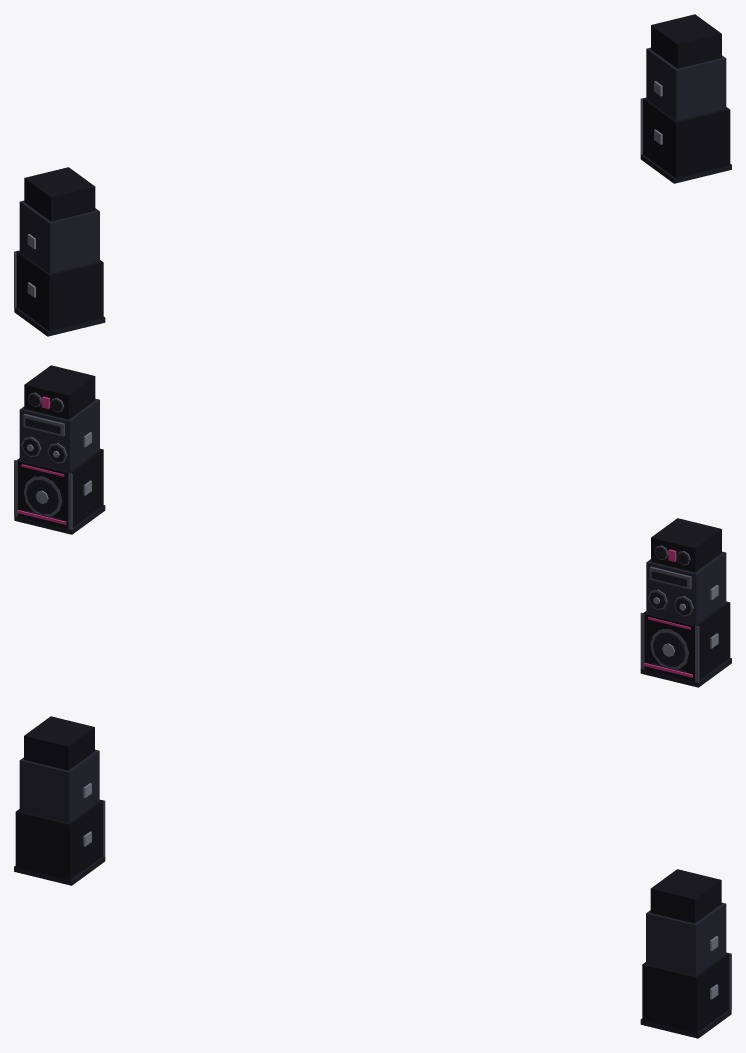
The model's file is Decor_DJStage_Speakers.fbx.
The picture shows the model from 3 angles, top to bottom: view 1: azimuth 30°, elevation 25°; view 2: azimuth 150°, elevation 25°; view 3: azimuth 330°, elevation 25°; orthographic projection.
Visible parts, largest first — view 1: Speakers_Body; view 2: Speakers_Body; view 3: Speakers_Body.
Boxes of the visible parts, x1,y1,x2,y2 form: Speakers_Body: (14, 14, 731, 336); Speakers_Body: (14, 365, 731, 687); Speakers_Body: (14, 716, 731, 1038).
Size of the model in its own units: 71 by 13.4 by 6.3.
